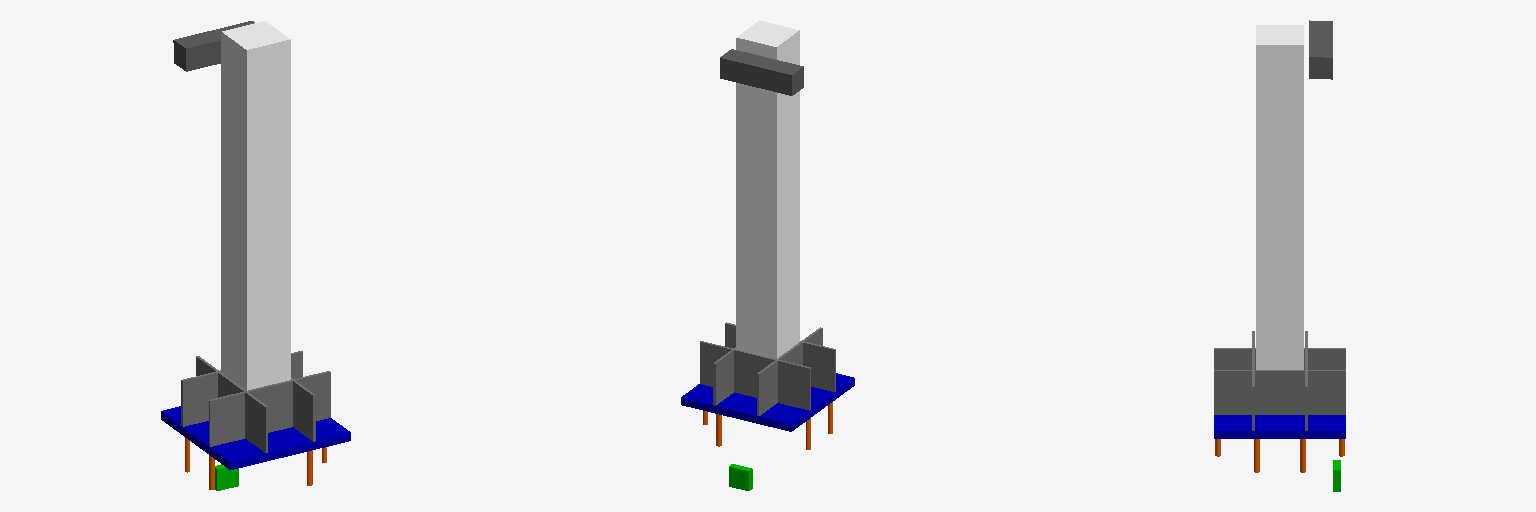
robot.urdf — turtlebot3_burger:
<?xml version="1.0" ?>
<robot name="turtlebot3_burger"
>

  <!-- Init colour -->
  <material name="black">
      <color rgba="0.0 0.0 0.0 1.0"/>
  </material>

  <material name="dark">
    <color rgba="0.3 0.3 0.3 1.0"/>
  </material>

  <material name="light_black">
    <color rgba="0.4 0.4 0.4 1.0"/>
  </material>

  <material name="blue">
    <color rgba="0.0 0.0 0.8 1.0"/>
  </material>

  <material name="green">
    <color rgba="0.0 0.8 0.0 1.0"/>
  </material>

  <material name="grey">
    <color rgba="0.5 0.5 0.5 1.0"/>
  </material>

  <material name="orange">
    <color rgba="1.0 0.4235 0.0392 1.0"/>
  </material>

  <material name="brown">
    <color rgba="0.8706 0.8118 0.7647 1.0"/>
  </material>

  <material name="red">
    <color rgba="0.8 0.0 0.0 1.0"/>
  </material>

  <material name="white">
    <color rgba="1.0 1.0 1.0 1.0"/>
  </material>

  <link name="base_footprint"/>

  <joint name="base_joint" type="fixed">
    <parent link="base_footprint"/>
    <child link="base_link"/>
    <origin xyz="0.0 0.0 0.010" rpy="0 0 0"/>
  </joint>

  <link name="base_link">
    <visual>
      <origin xyz="-0.032 0 0.0" rpy="0 0 0"/>
      <geometry>
        <mesh filename="../meshes/bases/burger_base.stl" scale="0.001 0.001 0.001"/>
      </geometry>
      <material name="light_black"/>
    </visual>

    <collision>
      <origin xyz="-0.032 0 0.070" rpy="0 0 0"/>
      <geometry>
        <box size="0.140 0.140 0.143"/>
      </geometry>
    </collision>

    <inertial>
      <origin xyz="0 0 0" rpy="0 0 0"/>
      <mass value="8.2573504e-01"/>
      <inertia ixx="2.2124416e-03" ixy="-1.2294101e-05" ixz="3.4938785e-05" iyy="2.1193702e-03" iyz="-5.0120904e-06" izz="2.0064271e-03" />
    </inertial>
  </link>

  <joint name="wheel_left_joint" type="continuous">
    <parent link="base_link"/>
    <child link="wheel_left_link"/>
    <origin xyz="0.0 0.08 0.023" rpy="-1.57 0 0"/>
    <axis xyz="0 0 1"/>
  </joint>

  <link name="wheel_left_link">
    <visual>
      <origin xyz="0 0 0" rpy="1.57 0 0"/>
      <geometry>
        <mesh filename="../meshes/wheels/left_tire.stl" scale="0.001 0.001 0.001"/>
      </geometry>
      <material name="dark"/>
    </visual>

    <collision>
      <origin xyz="0 0 0" rpy="0 0 0"/>
      <geometry>
        <cylinder length="0.018" radius="0.033"/>
      </geometry>
    </collision>

    <inertial>
      <origin xyz="0 0 0" />
      <mass value="2.8498940e-02" />
      <inertia ixx="1.1175580e-05" ixy="-4.2369783e-11" ixz="-5.9381719e-09" iyy="1.1192413e-05" iyz="-1.4400107e-11" izz="2.0712558e-05" />
    </inertial>
  </link>

  <joint name="wheel_right_joint" type="continuous">
    <parent link="base_link"/>
    <child link="wheel_right_link"/>
    <origin xyz="0.0 -0.080 0.023" rpy="-1.57 0 0"/>
    <axis xyz="0 0 1"/>
  </joint>

  <link name="wheel_right_link">
    <visual>
      <origin xyz="0 0 0" rpy="1.57 0 0"/>
      <geometry>
        <mesh filename="../meshes/wheels/right_tire.stl" scale="0.001 0.001 0.001"/>
      </geometry>
      <material name="dark"/>
    </visual>

    <collision>
      <origin xyz="0 0 0" rpy="0 0 0"/>
      <geometry>
        <cylinder length="0.018" radius="0.033"/>
      </geometry>
    </collision>

    <inertial>
      <origin xyz="0 0 0" />
      <mass value="2.8498940e-02" />
      <inertia ixx="1.1175580e-05" ixy="-4.2369783e-11" ixz="-5.9381719e-09" iyy="1.1192413e-05" iyz="-1.4400107e-11" izz="2.0712558e-05" />
    </inertial>
  </link>

  <joint name="caster_back_joint" type="fixed">
    <parent link="base_link"/>
    <child link="caster_back_link"/>
    <origin xyz="-0.081 0 -0.004" rpy="-1.57 0 0"/>
  </joint>

  <link name="caster_back_link">
    <collision>
      <origin xyz="0 0.001 0" rpy="0 0 0"/>
      <geometry>
        <box size="0.030 0.009 0.020"/>
      </geometry>
    </collision>

    <inertial>
      <origin xyz="0 0 0" />
      <mass value="0.005" />
      <inertia ixx="0.001" ixy="0.0" ixz="0.0" iyy="0.001" iyz="0.0" izz="0.001" />
    </inertial>
  </link>

  <joint name="imu_joint" type="fixed">
    <parent link="base_link"/>
    <child link="imu_link"/>
    <origin xyz="-0.032 0 0.068" rpy="0 0 0"/>
  </joint>

  <link name="imu_link"/>

  <joint name="scan_joint" type="fixed">
    <parent link="base_link"/>
    <child link="base_scan"/>
    <origin xyz="-0.032 0 0.172" rpy="0 0 0"/>
  </joint>

  <link name="base_scan">
    <visual>
      <origin xyz="0 0 0.0" rpy="0 0 0"/>
      <geometry>
        <mesh filename="../meshes/sensors/lds.stl" scale="0.001 0.001 0.001"/>
      </geometry>
      <material name="dark"/>
    </visual>

    <collision>
      <origin xyz="0.015 0 -0.0065" rpy="0 0 0"/>
      <geometry>
        <cylinder length="0.0315" radius="0.055"/>
      </geometry>
    </collision>

    <inertial>
      <mass value="0.114" />
      <origin xyz="0 0 0" />
      <inertia ixx="0.001" ixy="0.0" ixz="0.0" iyy="0.001" iyz="0.0" izz="0.001" />
    </inertial>
  </link>


  <!-- SCOUT-MOUNT-20261013: PDF 장착 기준. 추가 질량/관성 미정; 동역학 검증 모델 아님. -->
<link name="scout_plate_center_ground" />
  <joint name="scout_plate_center_ground_mount_joint" type="fixed">
    <parent link="base_footprint" />
    <child link="scout_plate_center_ground" />
    <origin xyz="-0.032 0 0" rpy="0 0 0" />
  </joint>
  <link name="scout_mast_base" />
  <joint name="scout_mast_base_mount_joint" type="fixed">
    <parent link="base_footprint" />
    <child link="scout_mast_base" />
    <origin xyz="-0.032 0 0.200" rpy="0 0 0" />
  </joint>
  <link name="scout_mast_top" />
  <joint name="scout_mast_top_mount_joint" type="fixed">
    <parent link="base_footprint" />
    <child link="scout_mast_top" />
    <origin xyz="-0.032 0 0.620" rpy="0 0 0" />
  </joint>
  <link name="scout_mast_link">
    <visual>
      <origin xyz="0 0 0" rpy="0 0 0" />
      <geometry>
        <box size="0.050 0.050 0.420" />
      </geometry>
      <material name="white" />
    </visual>
    <collision>
      <origin xyz="0 0 0" rpy="0 0 0" />
      <geometry>
        <box size="0.050 0.050 0.420" />
      </geometry>
    </collision>
  </link>
  <joint name="scout_mast_link_mount_joint" type="fixed">
    <parent link="base_footprint" />
    <child link="scout_mast_link" />
    <origin xyz="-0.032 0 0.410" rpy="0 0 0" />
  </joint>
  <link name="scout_top_plate_envelope">
    <!-- 근사 외곽 시각화만: 실제 Burger 판 메시/홀 패턴 미제공. 충돌체 아님. -->
    <visual>
      <origin xyz="0 0 0" rpy="0 0 0" />
      <geometry>
        <box size="0.13755 0.13755 0.009" />
      </geometry>
      <material name="blue" />
    </visual>
  </link>
  <joint name="scout_top_plate_envelope_mount_joint" type="fixed">
    <parent link="base_footprint" />
    <child link="scout_top_plate_envelope" />
    <origin xyz="-0.032 0 0.1955" rpy="0 0 0" />
  </joint>
  <link name="scout_holder_reference">
    <!-- DUX 근사 외형: 중앙 51mm 개구와 두께 3mm. 체결 구멍/CAD 형상/충돌 미검증. -->
    <visual>
      <origin xyz="0 -0.027 0" rpy="0 0 0" />
      <geometry>
        <box size="0.137 0.003 0.050" />
      </geometry>
      <material name="grey" />
    </visual>
    <visual>
      <origin xyz="0 0.027 0" rpy="0 0 0" />
      <geometry>
        <box size="0.137 0.003 0.050" />
      </geometry>
      <material name="grey" />
    </visual>
    <visual>
      <origin xyz="-0.027 0 0" rpy="0 0 0" />
      <geometry>
        <box size="0.003 0.137 0.050" />
      </geometry>
      <material name="grey" />
    </visual>
    <visual>
      <origin xyz="0.027 0 0" rpy="0 0 0" />
      <geometry>
        <box size="0.003 0.137 0.050" />
      </geometry>
      <material name="grey" />
    </visual>
  </link>
  <joint name="scout_holder_reference_mount_joint" type="fixed">
    <parent link="base_footprint" />
    <child link="scout_holder_reference" />
    <origin xyz="-0.032 0 0.225" rpy="0 0 0" />
  </joint>
  <link name="scout_extension_post_1">
    <!-- 대변 5mm 육각봉의 외접 원통 시각화. 길이/축은 PDF B값. -->
    <visual>
      <geometry>
        <cylinder radius="0.002886751346" length="0.0395" />
      </geometry>
      <material name="orange" />
    </visual>
  </link>
  <joint name="scout_extension_post_1_mount_joint" type="fixed">
    <parent link="base_footprint" />
    <child link="scout_extension_post_1" />
    <origin xyz="-0.096000 -0.024000 0.17125" rpy="0 0 0" />
  </joint>
  <link name="scout_extension_post_2">
    <!-- 대변 5mm 육각봉의 외접 원통 시각화. 길이/축은 PDF B값. -->
    <visual>
      <geometry>
        <cylinder radius="0.002886751346" length="0.0395" />
      </geometry>
      <material name="orange" />
    </visual>
  </link>
  <joint name="scout_extension_post_2_mount_joint" type="fixed">
    <parent link="base_footprint" />
    <child link="scout_extension_post_2" />
    <origin xyz="-0.096000 0.024000 0.17125" rpy="0 0 0" />
  </joint>
  <link name="scout_extension_post_3">
    <!-- 대변 5mm 육각봉의 외접 원통 시각화. 길이/축은 PDF B값. -->
    <visual>
      <geometry>
        <cylinder radius="0.002886751346" length="0.0395" />
      </geometry>
      <material name="orange" />
    </visual>
  </link>
  <joint name="scout_extension_post_3_mount_joint" type="fixed">
    <parent link="base_footprint" />
    <child link="scout_extension_post_3" />
    <origin xyz="-0.008000 -0.064000 0.17125" rpy="0 0 0" />
  </joint>
  <link name="scout_extension_post_4">
    <!-- 대변 5mm 육각봉의 외접 원통 시각화. 길이/축은 PDF B값. -->
    <visual>
      <geometry>
        <cylinder radius="0.002886751346" length="0.0395" />
      </geometry>
      <material name="orange" />
    </visual>
  </link>
  <joint name="scout_extension_post_4_mount_joint" type="fixed">
    <parent link="base_footprint" />
    <child link="scout_extension_post_4" />
    <origin xyz="-0.008000 0.064000 0.17125" rpy="0 0 0" />
  </joint>
  <link name="scout_extension_post_5">
    <!-- 대변 5mm 육각봉의 외접 원통 시각화. 길이/축은 PDF B값. -->
    <visual>
      <geometry>
        <cylinder radius="0.002886751346" length="0.0395" />
      </geometry>
      <material name="orange" />
    </visual>
  </link>
  <joint name="scout_extension_post_5_mount_joint" type="fixed">
    <parent link="base_footprint" />
    <child link="scout_extension_post_5" />
    <origin xyz="0.032000 -0.024000 0.17125" rpy="0 0 0" />
  </joint>
  <link name="scout_extension_post_6">
    <!-- 대변 5mm 육각봉의 외접 원통 시각화. 길이/축은 PDF B값. -->
    <visual>
      <geometry>
        <cylinder radius="0.002886751346" length="0.0395" />
      </geometry>
      <material name="orange" />
    </visual>
  </link>
  <joint name="scout_extension_post_6_mount_joint" type="fixed">
    <parent link="base_footprint" />
    <child link="scout_extension_post_6" />
    <origin xyz="0.032000 0.024000 0.17125" rpy="0 0 0" />
  </joint>
  <link name="bmany_camera_link">
    <!-- 원점=RGB 렌즈 중심. 외형은 렌즈 뒤에 놓은 개략 상자이며 렌즈-하우징 중심 변환은 미측정. pitch=1도/roll=0 잠정값. -->
    <visual>
      <origin xyz="-0.012525 0 0" rpy="0 0 0" />
      <geometry>
        <box size="0.02505 0.090 0.025" />
      </geometry>
      <material name="light_black" />
    </visual>
  </link>
  <joint name="bmany_camera_link_mount_joint" type="fixed">
    <parent link="base_footprint" />
    <child link="bmany_camera_link" />
    <origin xyz="-0.049 0.055 0.595" rpy="0 0.017453292520 1.570796326795" />
  </joint>
  <link name="camera_color_optical_frame" />
  <joint name="camera_color_optical_frame_mount_joint" type="fixed">
    <parent link="bmany_camera_link" />
    <child link="camera_color_optical_frame" />
    <origin xyz="0 0 0" rpy="-1.570796326795 0 -1.570796326795" />
  </joint>
  <link name="camera_optical_frame" />
  <joint name="camera_optical_frame_mount_joint" type="fixed">
    <parent link="camera_color_optical_frame" />
    <child link="camera_optical_frame" />
    <origin xyz="0 0 0" rpy="0 0 0" />
  </joint>
  <link name="picam_frame">
    <!-- 렌즈 중심 기준. 판 중심 X=0은 PDF C값. 스트리밍 활성화와 무관한 외형/TF. -->
    <visual>
      <origin xyz="-0.004 0 0" rpy="0 0 0" />
      <geometry>
        <box size="0.008 0.025 0.024" />
      </geometry>
      <material name="green" />
    </visual>
  </link>
  <joint name="picam_frame_mount_joint" type="fixed">
    <parent link="base_footprint" />
    <child link="picam_frame" />
    <origin xyz="-0.032 0.063 0.117" rpy="0 0 1.570796326795" />
  </joint>
  <link name="picam_optical_frame" />
  <joint name="picam_optical_frame_mount_joint" type="fixed">
    <parent link="picam_frame" />
    <child link="picam_optical_frame" />
    <origin xyz="0 0 0" rpy="-1.570796326795 0 -1.570796326795" />
  </joint>

</robot>

--- Facts derived from the render (not from the file) ---
Views: 3 orthographic renders of the robot side by side, from view 1: azimuth 30°, elevation 25°; view 2: azimuth 150°, elevation 25°; view 3: azimuth 270°, elevation 25°.
Model turtlebot3_burger with 24 links and 23 joints (2 continuous, 21 fixed), rooted at base_footprint, posed all joints at 0.
Links seen in each view (by area): view 1: scout_mast_link, scout_holder_reference, scout_top_plate_envelope, bmany_camera_link; view 2: scout_mast_link, scout_holder_reference, scout_top_plate_envelope, bmany_camera_link, picam_frame; view 3: scout_mast_link, scout_holder_reference, scout_top_plate_envelope, bmany_camera_link.
Link boxes in pixels (left/top/right/bottom): scout_mast_link: left=221, top=21, right=290, bottom=390; scout_holder_reference: left=181, top=351, right=330, bottom=452; scout_top_plate_envelope: left=161, top=406, right=350, bottom=469; bmany_camera_link: left=173, top=21, right=254, bottom=71; scout_mast_link: left=736, top=20, right=799, bottom=358; scout_holder_reference: left=700, top=322, right=835, bottom=415; scout_top_plate_envelope: left=681, top=373, right=854, bottom=431; bmany_camera_link: left=720, top=49, right=803, bottom=95; picam_frame: left=729, top=464, right=752, bottom=490; scout_mast_link: left=1256, top=25, right=1303, bottom=369; scout_holder_reference: left=1214, top=331, right=1345, bottom=430; scout_top_plate_envelope: left=1214, top=415, right=1345, bottom=438; bmany_camera_link: left=1309, top=20, right=1332, bottom=79.
Bounding box of the posed robot: 0.1375 × 0.1375 × 0.515 m (x, y, z).
Meshes: 4 distinct files referenced, 0 mesh visuals loaded (none loaded); not drawn: 4 (reference not matched to a file when rendering).
